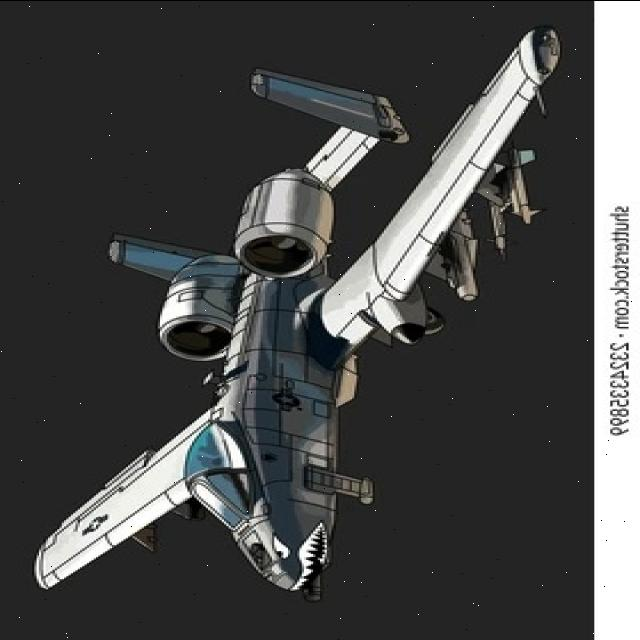A10: (25, 21, 569, 640)
